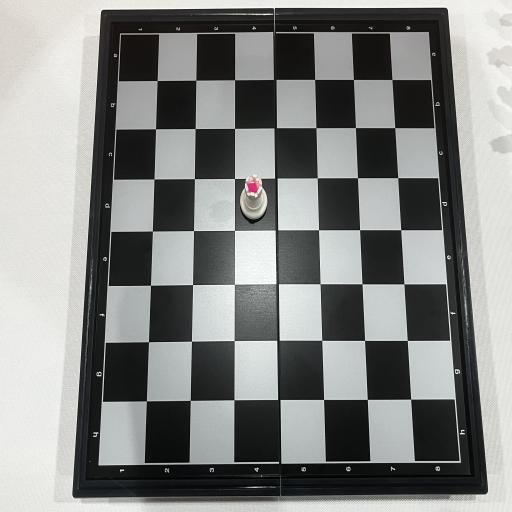White rook: (240, 174, 267, 222)
